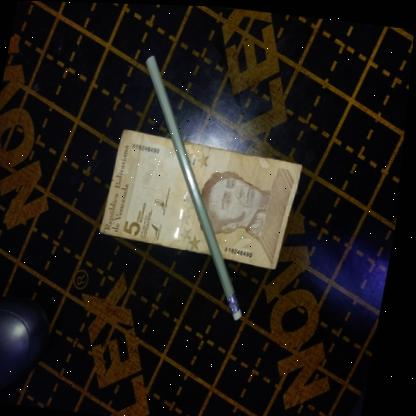five-front-vef: (99, 128, 311, 269)
